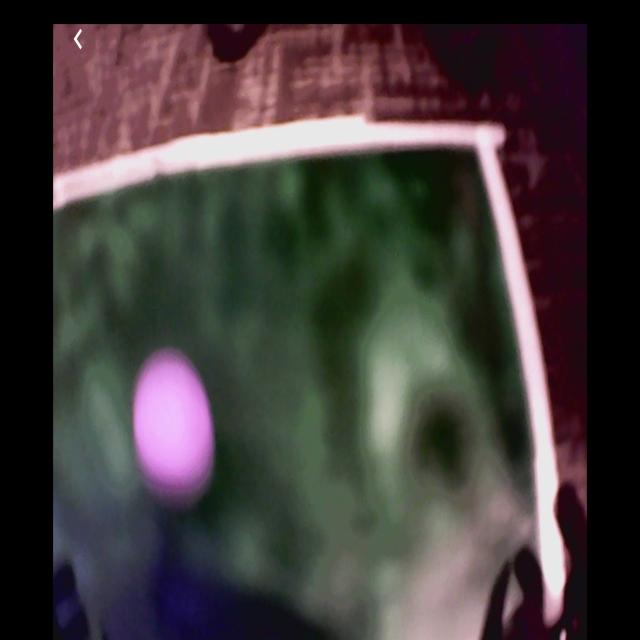ball: (135, 353, 215, 497)
